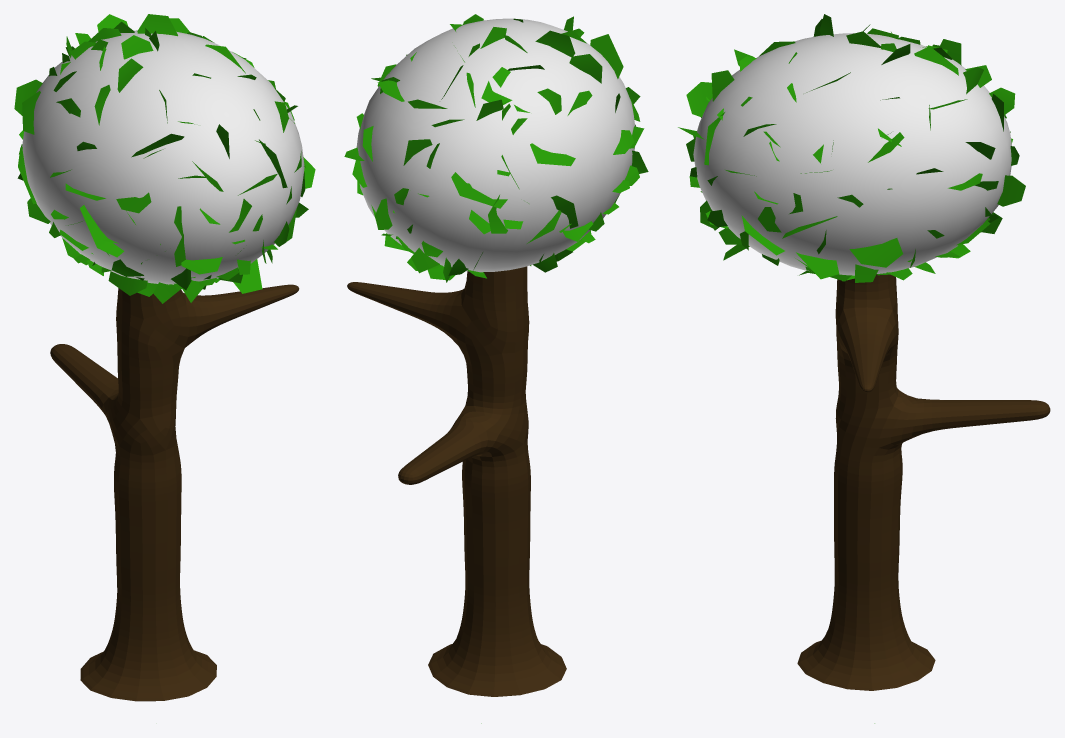
The model's file is Tree3.fbx.
The picture shows the model from 3 angles, left to right: view 1: azimuth 30°, elevation 25°; view 2: azimuth 150°, elevation 25°; view 3: azimuth 270°, elevation 25°; orthographic projection.
Visible parts, largest first — view 1: 球.009, Vert.001, 球.009|平面.001|Dupli|176, 球.009|平面.001|Dupli|589, 球.009|平面.001|Dupli|188, 球.009|平面.001|Dupli|944, 球.009|平面.001|Dupli|284, 球.009|平面.001|Dupli|44; view 2: 球.009, Vert.001, 球.009|平面.001|Dupli|128, 球.009|平面.001|Dupli|428, 球.009|平面.001|Dupli|217, 球.009|平面.001|Dupli|356, 球.009|平面.001|Dupli|212; view 3: 球.009, Vert.001, 球.009|平面.001|Dupli|728, 球.009|平面.001|Dupli|56, 球.009|平面.001|Dupli|584.
Part boxes in pixels (bbox=[...]): 球.009: bbox=[22, 30, 304, 284]; Vert.001: bbox=[50, 284, 299, 701]; 球.009|平面.001|Dupli|176: bbox=[80, 205, 124, 257]; 球.009|平面.001|Dupli|589: bbox=[137, 14, 177, 36]; 球.009|平面.001|Dupli|188: bbox=[108, 271, 147, 295]; 球.009|平面.001|Dupli|944: bbox=[233, 259, 262, 293]; 球.009|平面.001|Dupli|284: bbox=[121, 35, 153, 59]; 球.009|平面.001|Dupli|44: bbox=[181, 257, 222, 274]; 球.009: bbox=[356, 18, 635, 272]; Vert.001: bbox=[347, 266, 566, 696]; 球.009|平面.001|Dupli|128: bbox=[590, 34, 623, 78]; 球.009|平面.001|Dupli|428: bbox=[451, 172, 507, 208]; 球.009|平面.001|Dupli|217: bbox=[535, 30, 575, 57]; 球.009|平面.001|Dupli|356: bbox=[530, 143, 575, 166]; 球.009|平面.001|Dupli|212: bbox=[569, 54, 602, 83]; 球.009: bbox=[693, 33, 1011, 275]; Vert.001: bbox=[797, 274, 1050, 690]; 球.009|平面.001|Dupli|728: bbox=[849, 238, 902, 267]; 球.009|平面.001|Dupli|56: bbox=[686, 82, 712, 117]; 球.009|平面.001|Dupli|584: bbox=[997, 175, 1025, 206].
Bounding box in the file's own units: 251 × 628 × 308.
